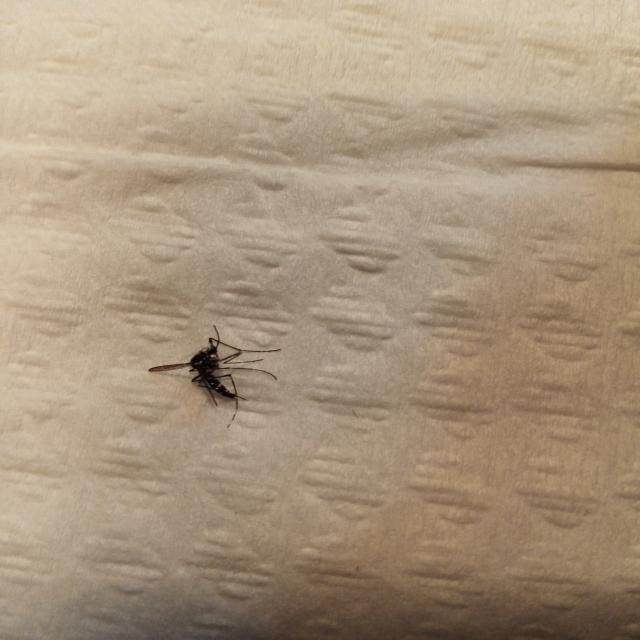albopictus: (145, 318, 286, 426)
